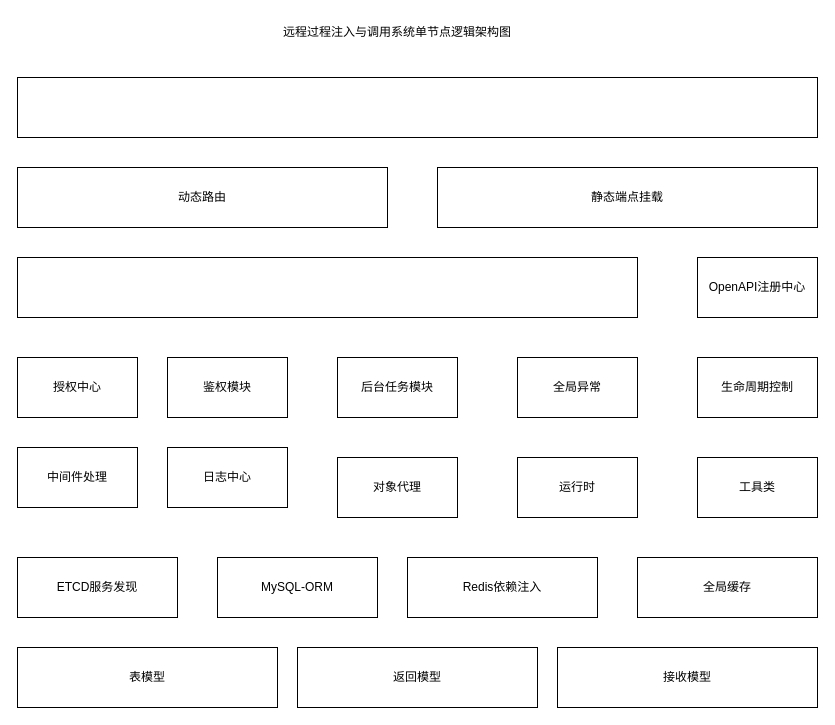
Some shapes in this 835 by 725 pixel diagram are drawn without their labels. Each missing label, with the box of its shape:
ASGI服务: (16, 76, 818, 138)
端点处理: (16, 256, 638, 318)
